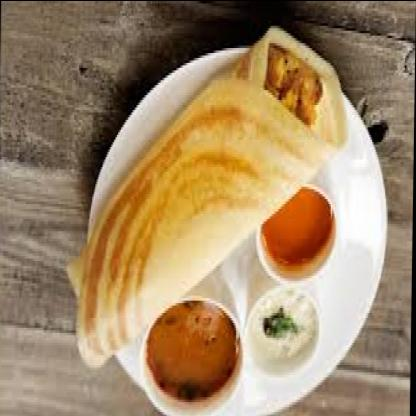dosa: (65, 26, 349, 368)
